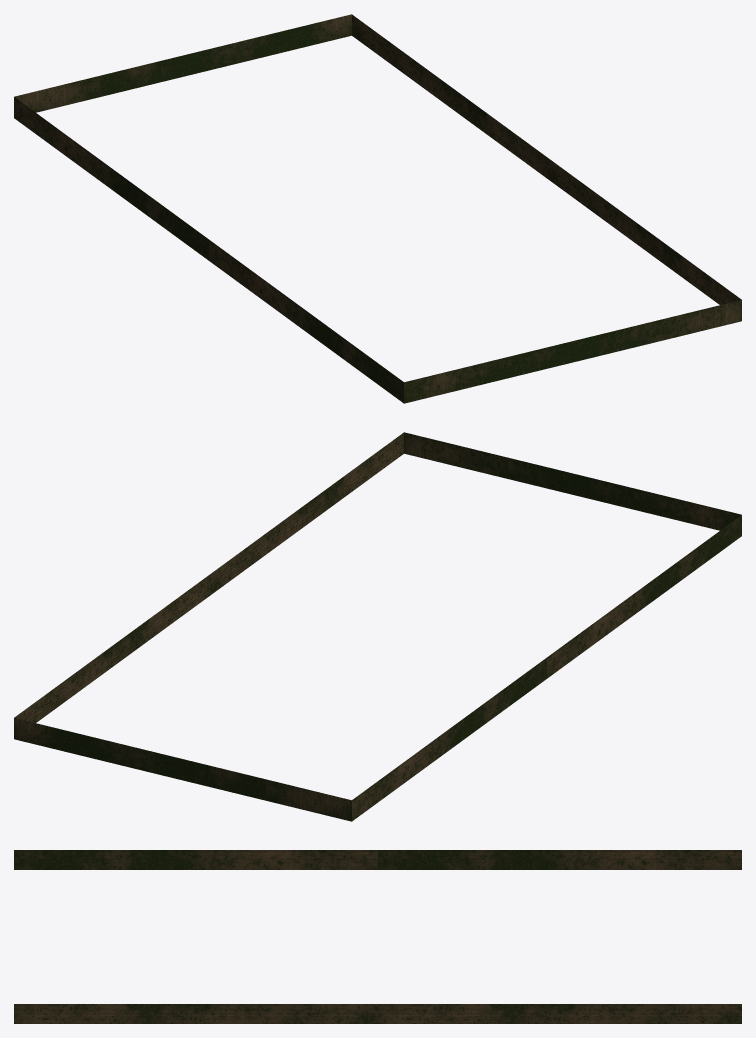
Rendered from shrine_floor_0.fbx.
The picture shows the model from 3 angles, top to bottom: view 1: azimuth 30°, elevation 25°; view 2: azimuth 150°, elevation 25°; view 3: azimuth 270°, elevation 25°; orthographic projection. The views are drawn at different scales.
Parts seen in each view (by area): view 1: shrine_floor_0; view 2: shrine_floor_0; view 3: shrine_floor_0.
Boxes of the visible parts, x1,y1,x2,y2 form: shrine_floor_0: (14,14,741,403); shrine_floor_0: (14,432,741,821); shrine_floor_0: (14,850,741,1023).
Bounding box in the file's own units: 330 × 20 × 660.
Materials: 1 (1 with a texture image).
